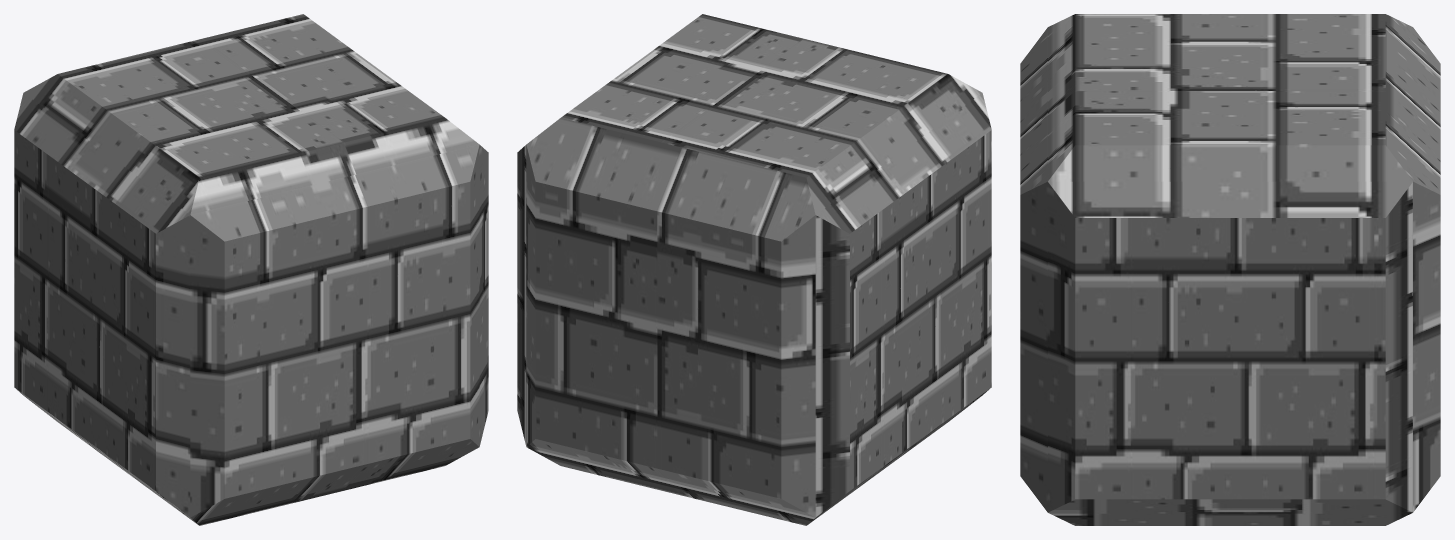
Rendered from Block_01.fbx.
3 renders of one model, left to right at view 1: azimuth 30°, elevation 25°; view 2: azimuth 150°, elevation 25°; view 3: azimuth 270°, elevation 25°, orthographic. The views are drawn at different scales.
Parts seen in each view (by area): view 1: Block; view 2: Block; view 3: Block.
Boxes of the visible parts, x1=… form: Block: x1=14, y1=14, x2=488, y2=525; Block: x1=517, y1=14, x2=991, y2=525; Block: x1=1020, y1=14, x2=1440, y2=525.
Bounding box in the file's own units: 230 × 230 × 230.
